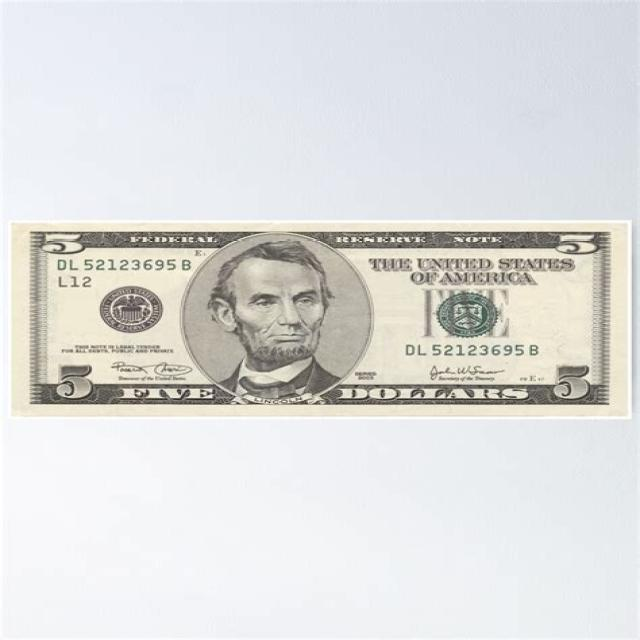Five: (10, 222, 630, 419)
